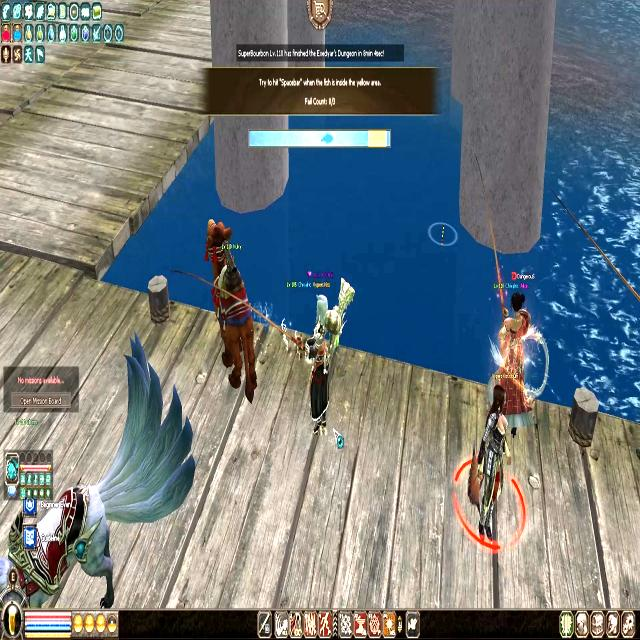fishes: (319, 128, 335, 148)
